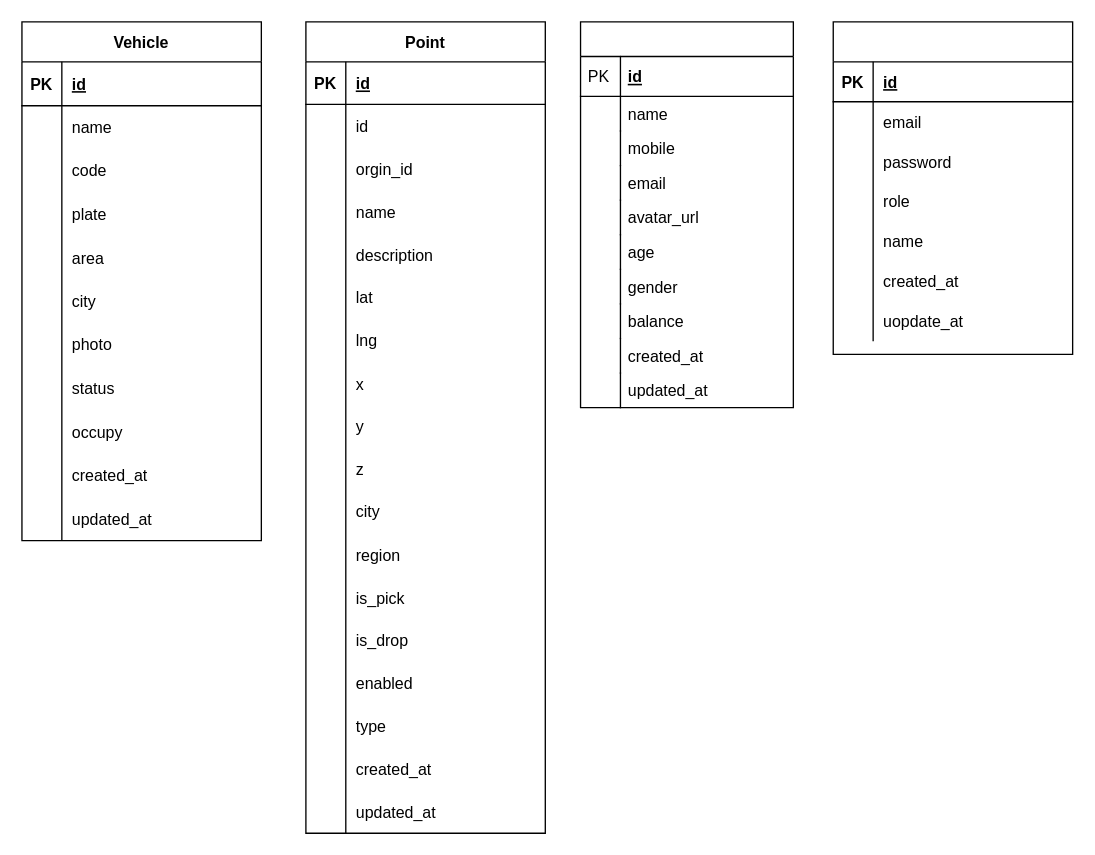
This 1095x855 diagram has some shape labels left out. Here are the shapes that lost their labels. From the top down, the box of each, then its label:
(832, 21, 1073, 354): Account
(579, 21, 793, 408): Member
